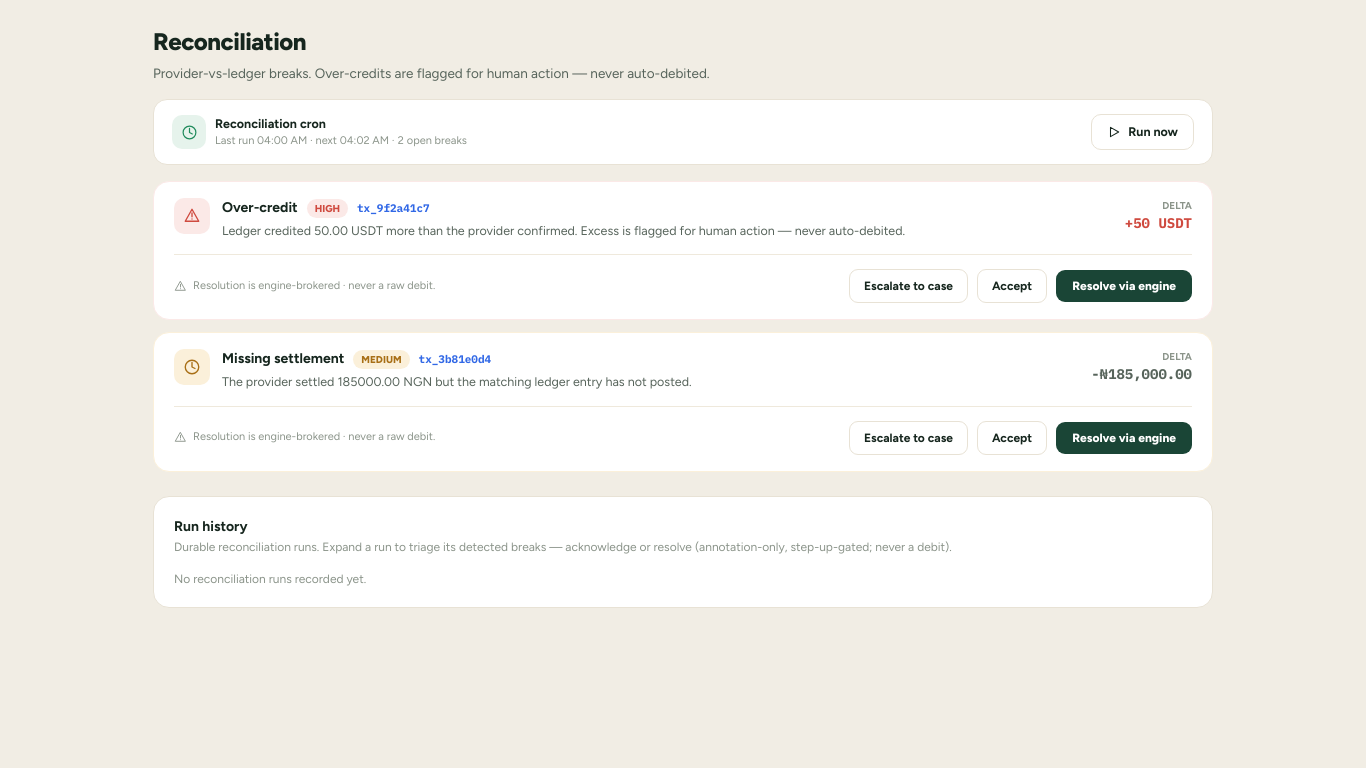
Test case: ReconciliationPage (Phase 8 — escalate to compliance WRITE) › opens step-up and replays the escalate POST after re-auth when the server demands step-up
This screenshot has width=1366, height=768.
Click the button "Escalate to case" below "+50 USDT" at (908, 286), box [849,269,968,303]
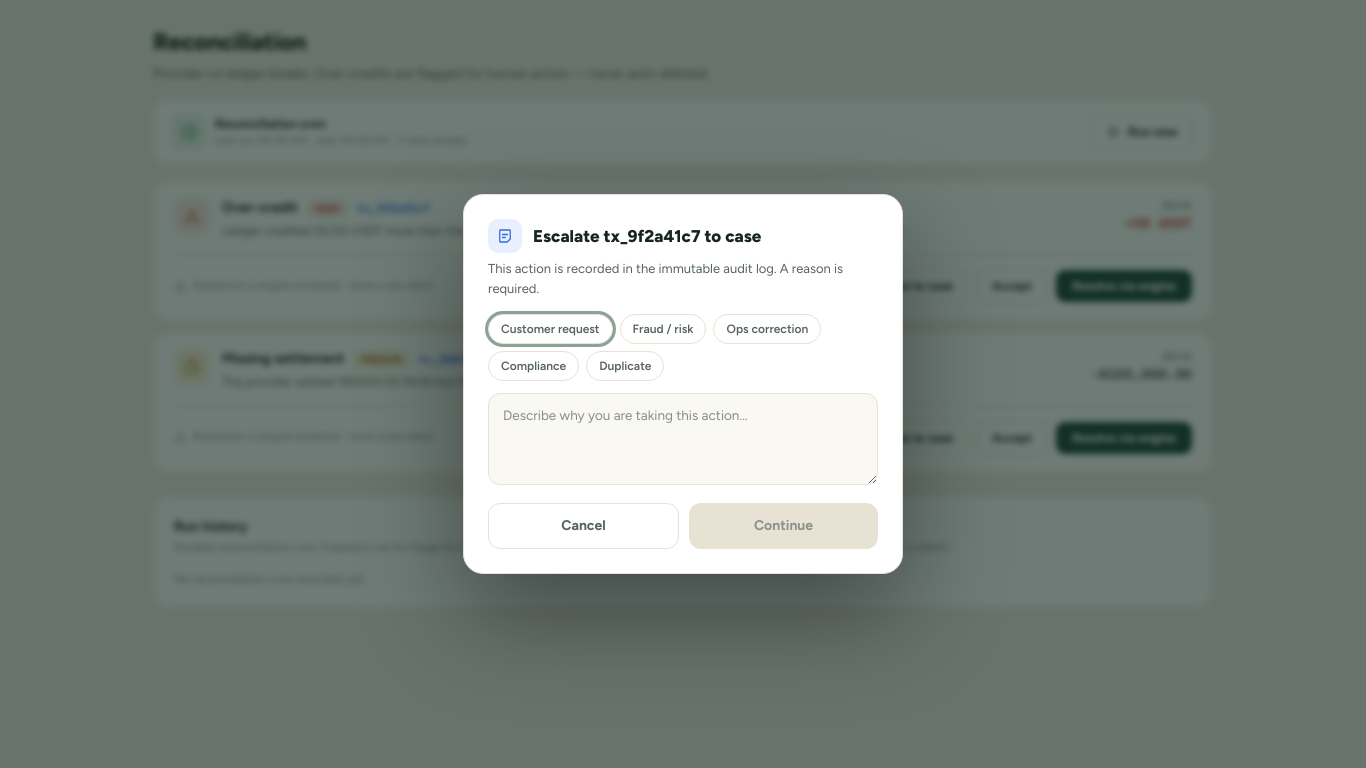
Type "Confirmed AML concern" into the text box named "Reason" at (683, 439), box [488,393,878,485]
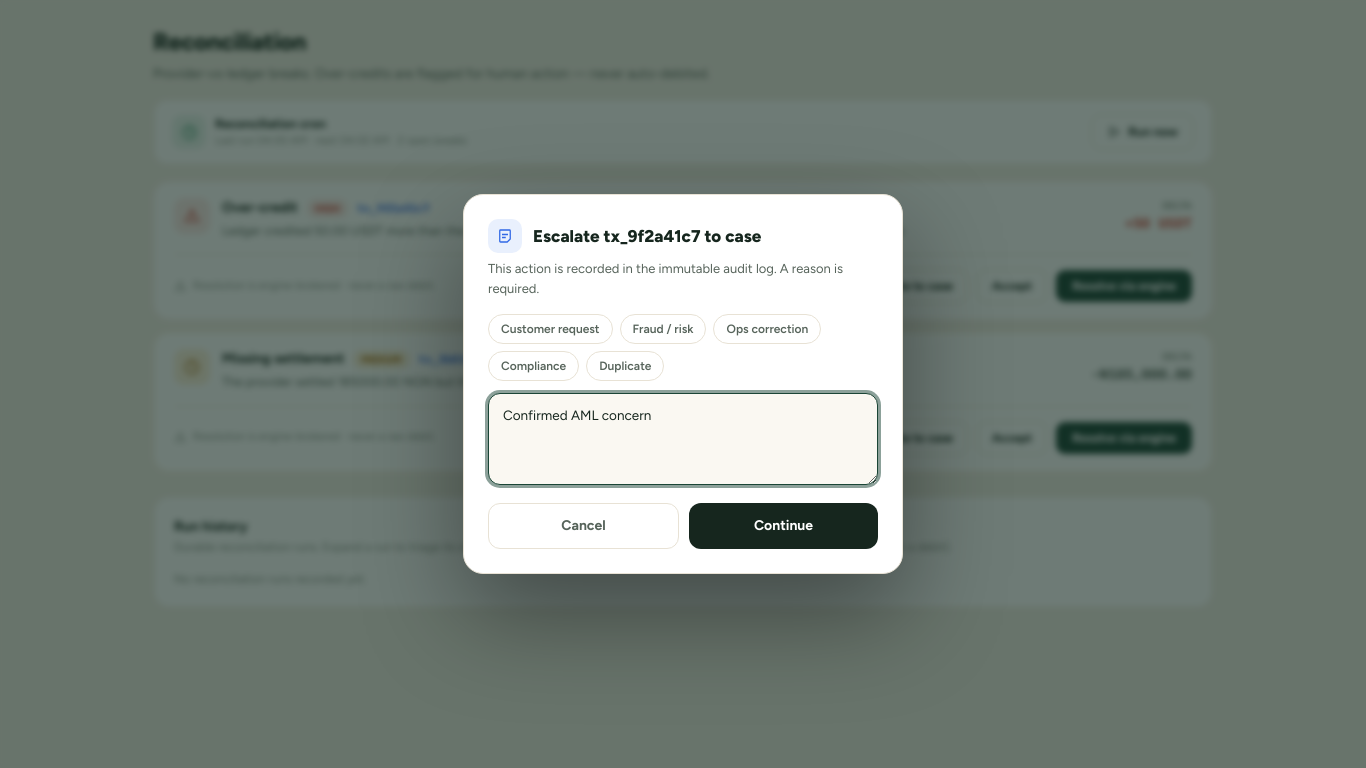
Click the button "Continue" at (784, 526), box [689,503,878,549]
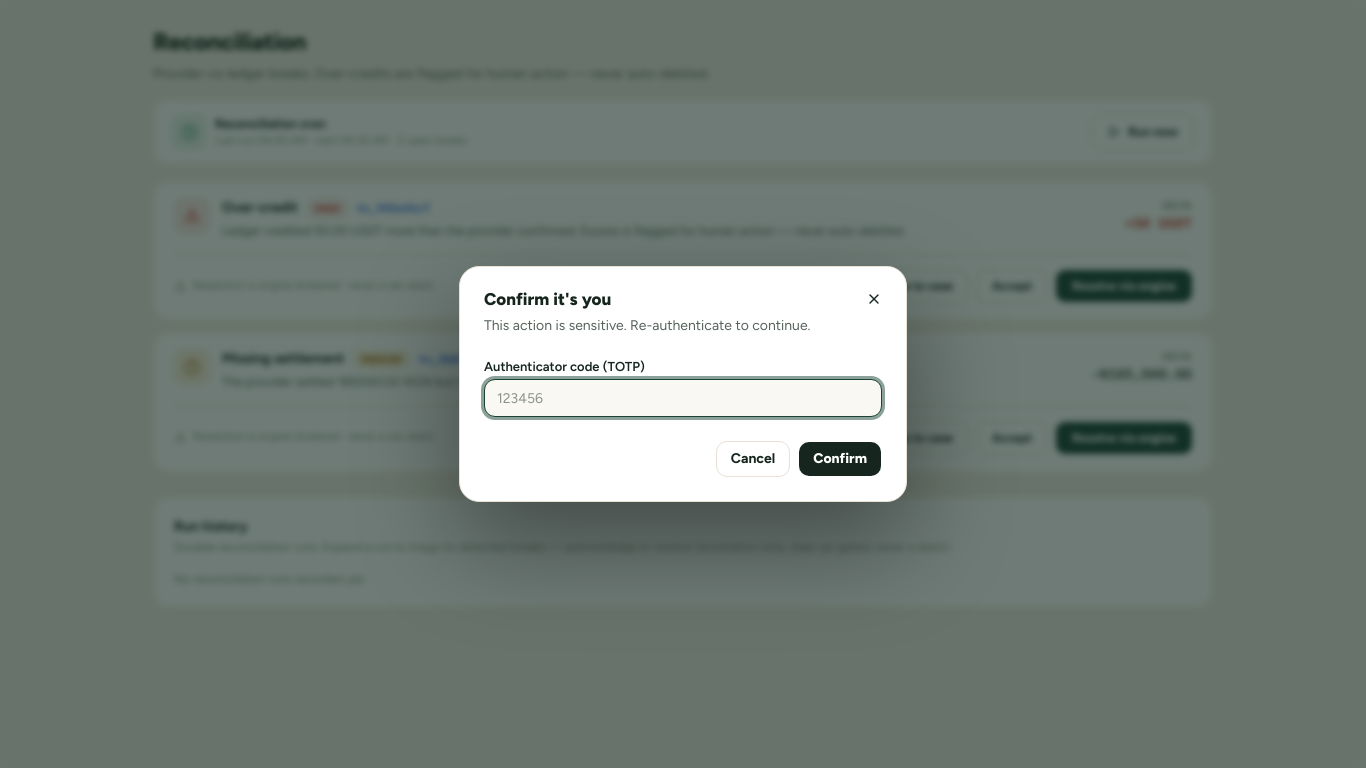
Expected: the heading "Confirm it's you" is shown, [484,289,611,309]
